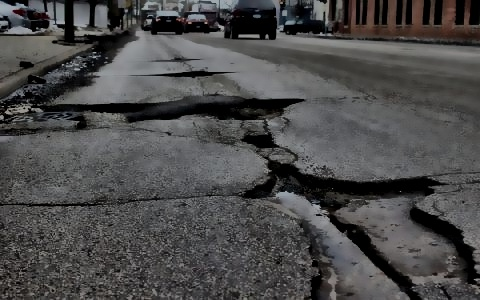pothole: (238, 159, 479, 299), (216, 95, 307, 122), (43, 99, 156, 114), (240, 132, 281, 149), (162, 69, 227, 77)
